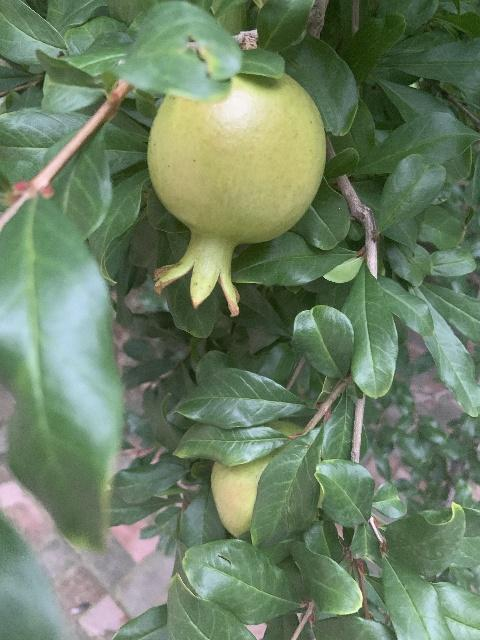mid-growth: (146, 71, 326, 316)
